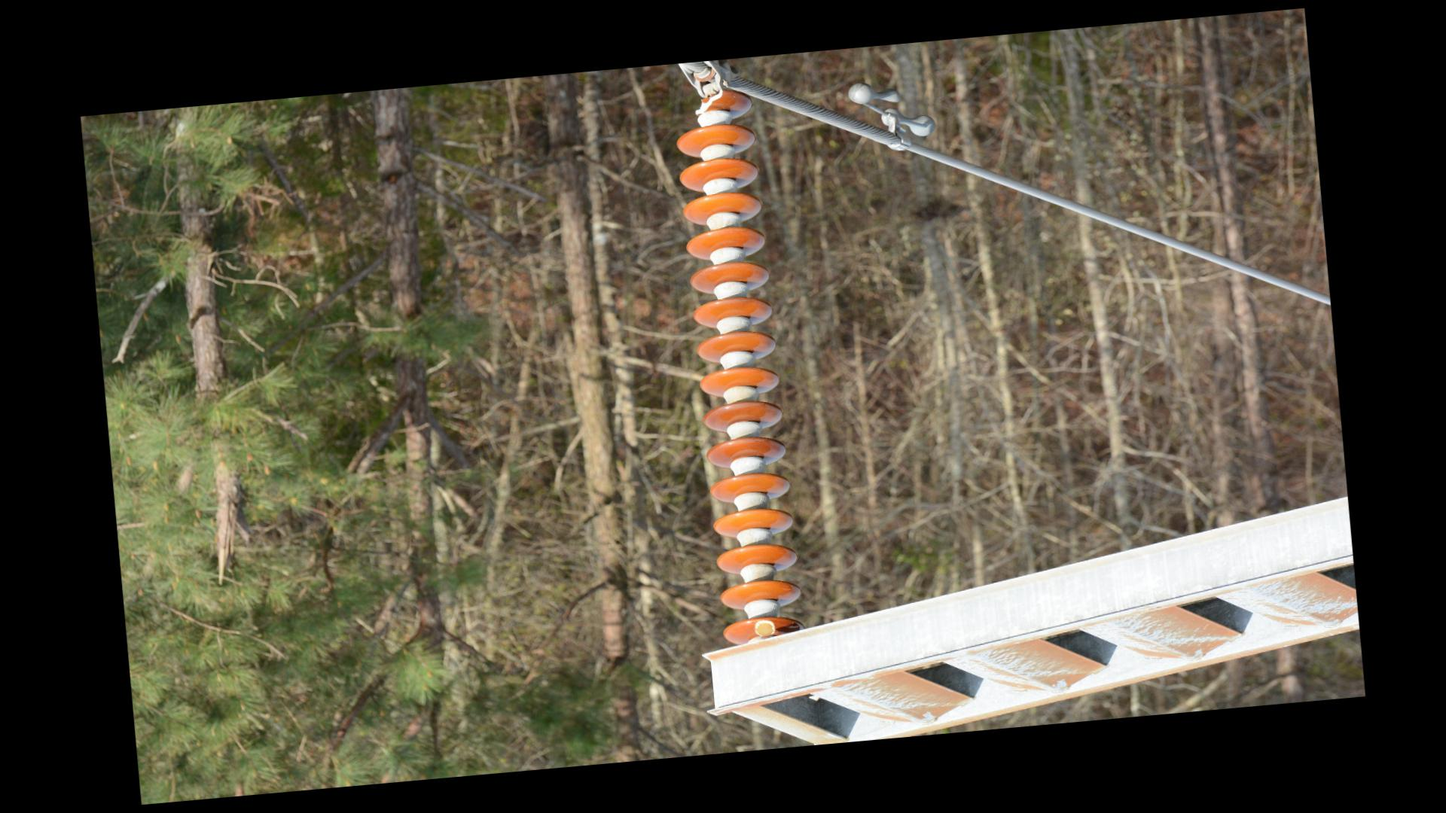damper: (844, 73, 941, 159)
